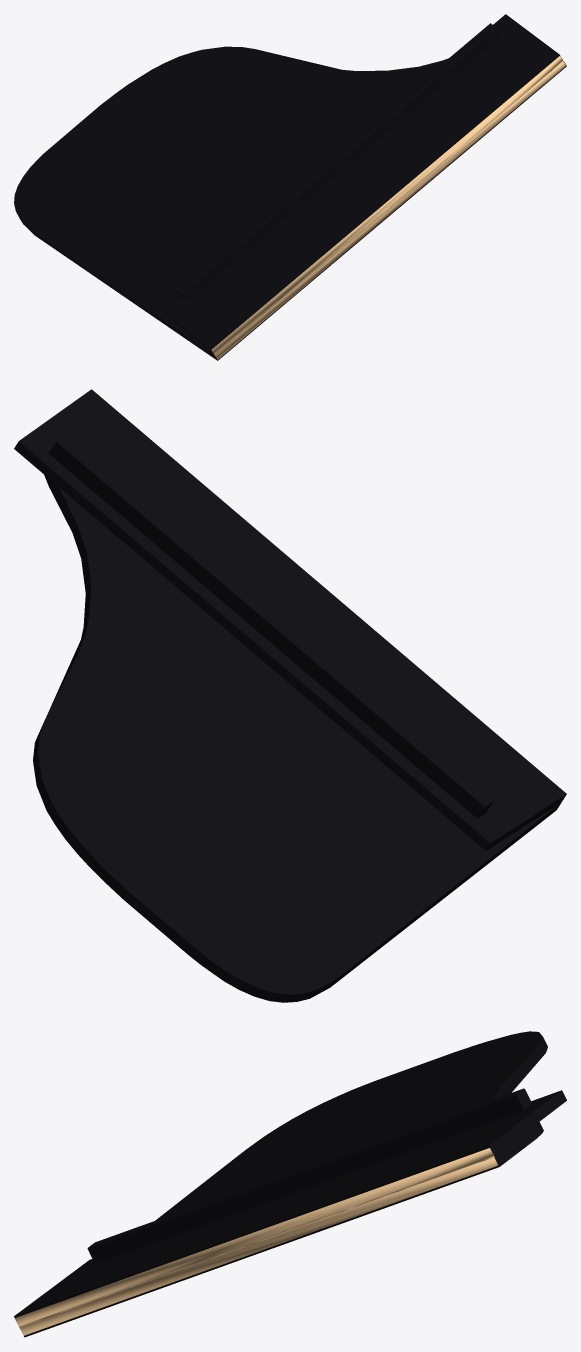
The model's file is grand_piano_lid_v2.gltf.
The picture shows the model from 3 angles, top to bottom: view 1: azimuth 30°, elevation 25°; view 2: azimuth 150°, elevation 25°; view 3: azimuth 330°, elevation 25°; orthographic projection. The views are drawn at different scales.
Visible parts, largest first — view 1: defaultMaterial.054, defaultMaterial.055, defaultMaterial.053; view 2: defaultMaterial.054, defaultMaterial.055; view 3: defaultMaterial.055, defaultMaterial.054, defaultMaterial.053.
Boxes of the visible parts, left/top/right/bottom form: defaultMaterial.054: left=14, top=46, right=566, bottom=360; defaultMaterial.055: left=159, top=14, right=562, bottom=354; defaultMaterial.053: left=211, top=56, right=565, bottom=359; defaultMaterial.054: left=33, top=475, right=561, bottom=1002; defaultMaterial.055: left=14, top=389, right=566, bottom=850; defaultMaterial.055: left=14, top=1088, right=566, bottom=1318; defaultMaterial.054: left=24, top=1031, right=547, bottom=1337; defaultMaterial.053: left=15, top=1148, right=497, bottom=1335.
Bounding box in the file's own units: 28.41 × 17.03 × 29.56.
4 materials, 4 textured.
